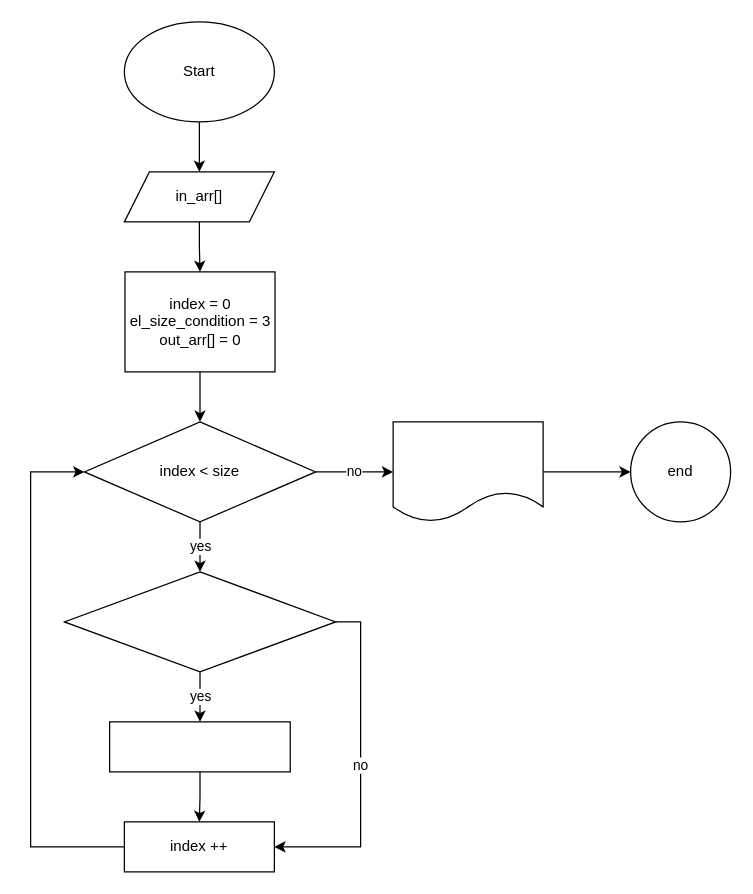
Some shapes in this 753 by 894 pixel diagram are drawn without their labels. The centre of each missing label's shape, as x and y in pixels:
"el_length <= el_size_condition" belongs at pixel 199 621.
"out_arr[] += in_arr[index]" belongs at pixel 199 746.
"print out_arr[]" belongs at pixel 467 471.
